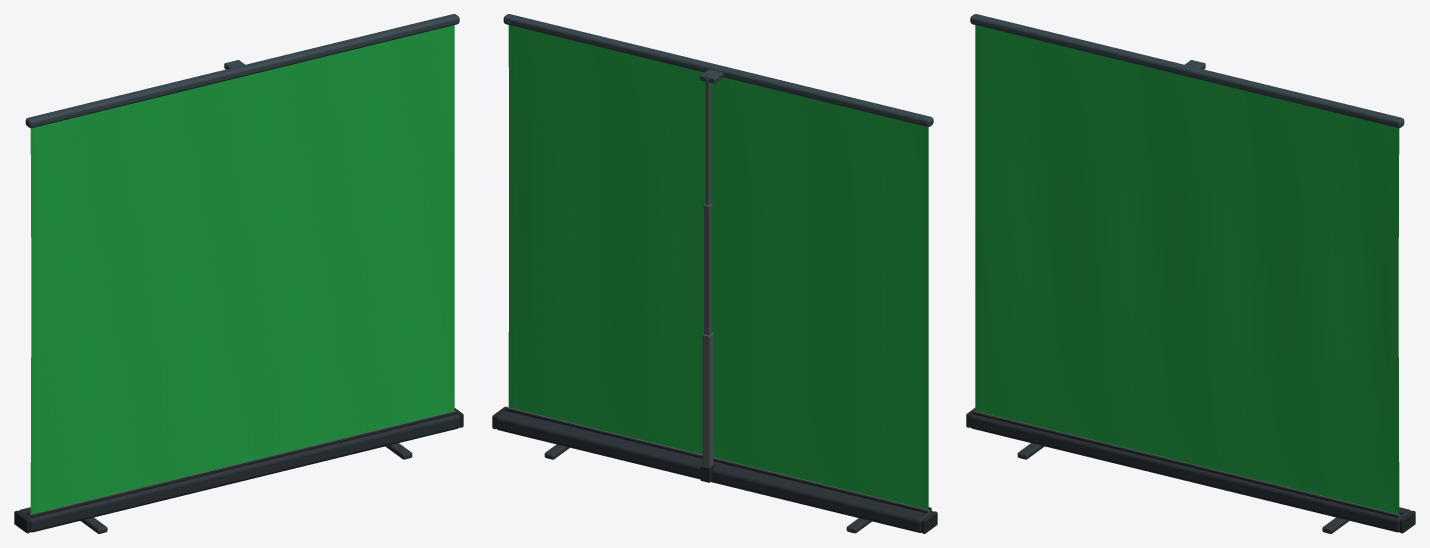
3 views of the same model, side by side, from view 1: azimuth 30°, elevation 25°; view 2: azimuth 150°, elevation 25°; view 3: azimuth 330°, elevation 25° (orthographic).
Parts seen in each view (by area): view 1: fabric-sheet, roller-case, lift-rail, roller-mouth, roller-drum; view 2: fabric-sheet, roller-case, lift-rail, lift-mast, roller-mouth, roller-drum; view 3: fabric-sheet, roller-case, lift-rail, roller-mouth, roller-drum.
Boxes of the visible parts, <box> form: fabric-sheet: <box>30,25,454,514</box>; roller-case: <box>18,413,460,532</box>; lift-rail: <box>25,14,459,128</box>; roller-mouth: <box>27,411,457,517</box>; roller-drum: <box>29,411,455,516</box>; fabric-sheet: <box>508,25,928,509</box>; roller-case: <box>495,410,933,532</box>; lift-rail: <box>503,14,933,127</box>; lift-mast: <box>702,78,713,467</box>; roller-mouth: <box>505,407,931,513</box>; roller-drum: <box>507,407,930,511</box>; fabric-sheet: <box>975,25,1399,514</box>; roller-case: <box>969,413,1411,532</box>; lift-rail: <box>970,14,1404,128</box>; roller-mouth: <box>972,411,1402,517</box>; roller-drum: <box>974,411,1400,516</box>.
Size of the model in its own units: 2.08 by 1.91 by 0.264.
6 materials, 1 textured.
